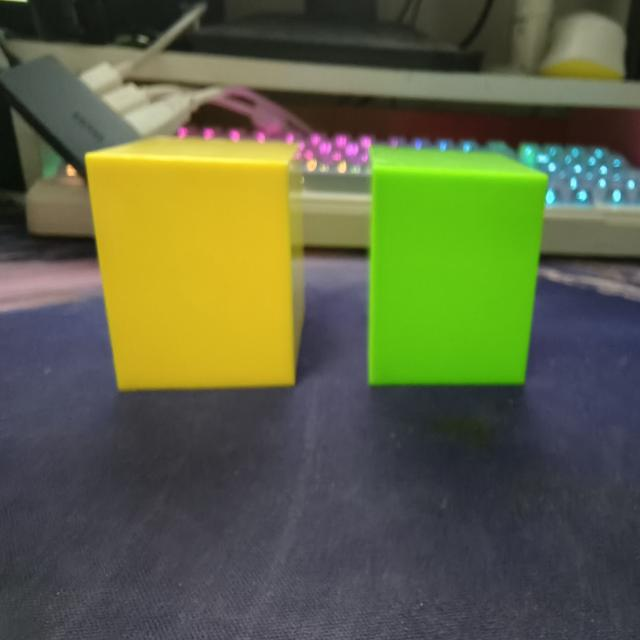green: (367, 147, 550, 389)
yellow: (83, 137, 302, 394)
